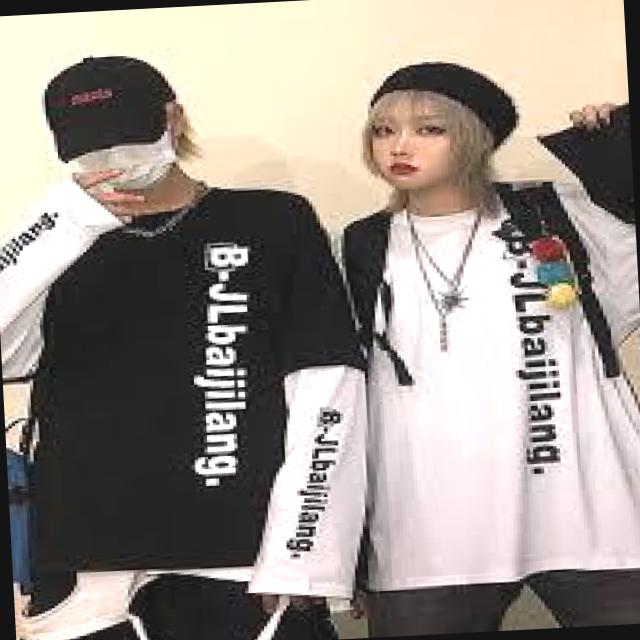Tshirt: (3, 172, 380, 624), (308, 170, 640, 596)
